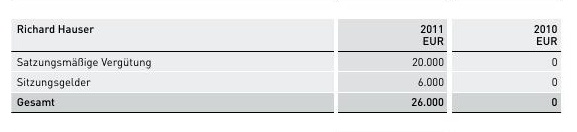table: (0, 0, 577, 132)
